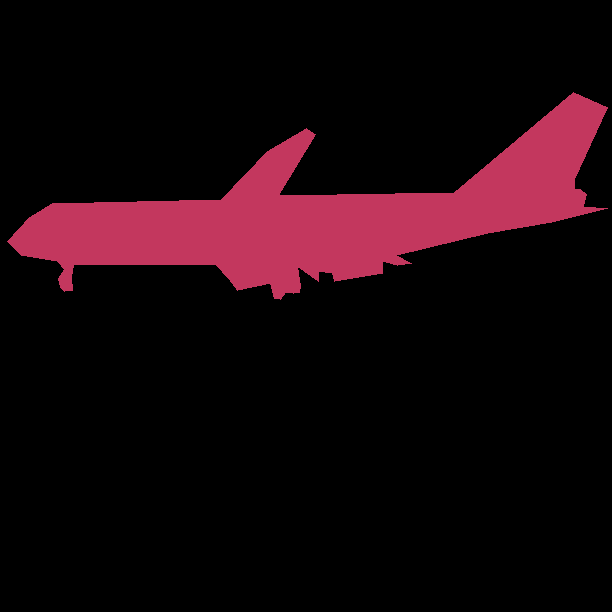Airplane: (7, 92, 607, 300)
